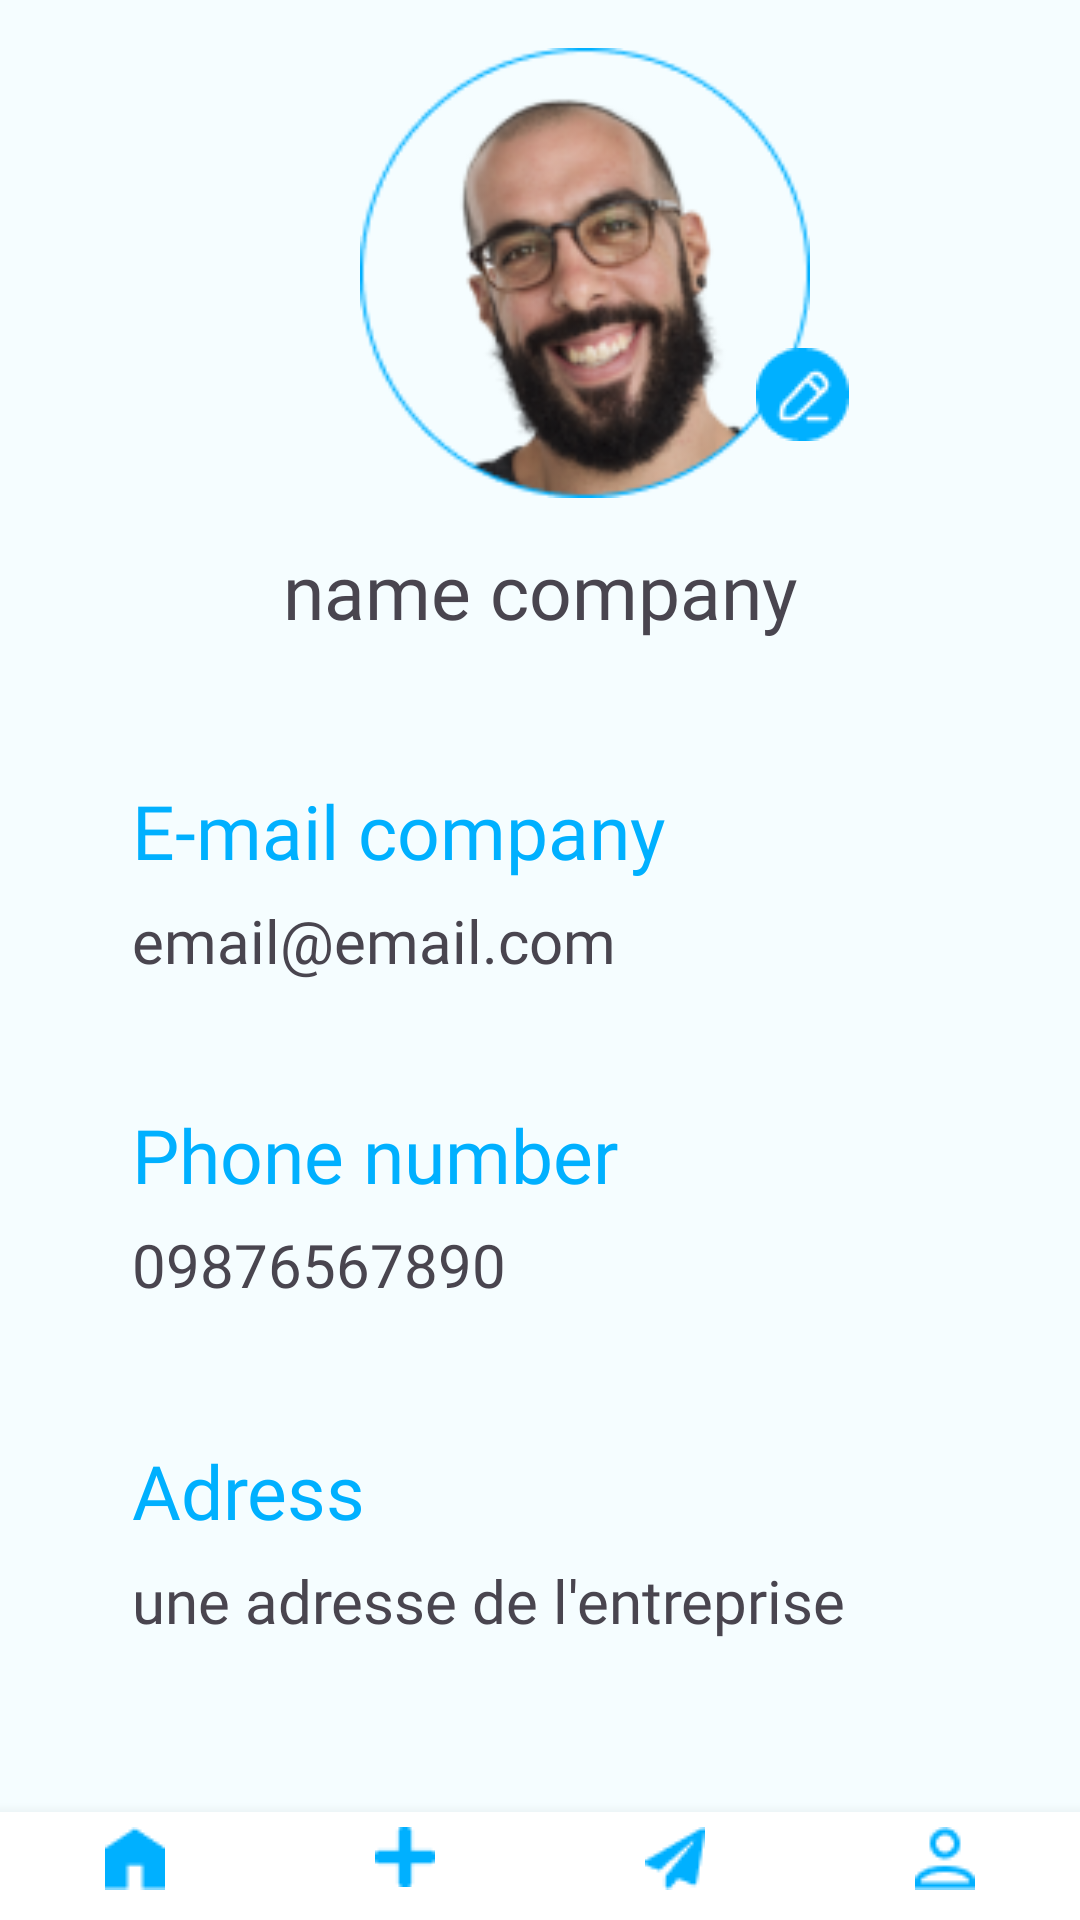

Screen size 1080*1920. Icon name, then its center in pixels as (x,y):
home: (135,1858)
message: (675,1858)
plus: (405,1857)
profil: (945,1858)
